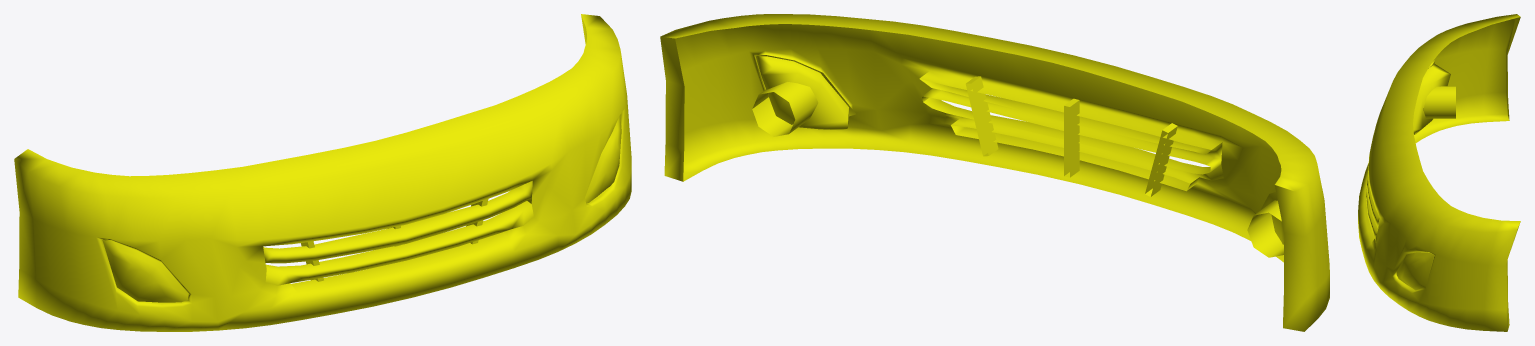
Rendered from Accent_V3_Front_Bumper.fbx.
The picture shows the model from 3 angles, left to right: view 1: azimuth 30°, elevation 25°; view 2: azimuth 150°, elevation 25°; view 3: azimuth 270°, elevation 25°; orthographic projection. The views are drawn at different scales.
Parts seen in each view (by area): view 1: Accent_V3_Front_Bumper; view 2: Accent_V3_Front_Bumper; view 3: Accent_V3_Front_Bumper.
Part boxes in pixels (x1,y1,x2,y2): Accent_V3_Front_Bumper: [14, 14, 631, 331]; Accent_V3_Front_Bumper: [660, 14, 1329, 331]; Accent_V3_Front_Bumper: [1358, 14, 1520, 331].
Size of the model in its own units: 29.65 by 6.61 by 9.36.
